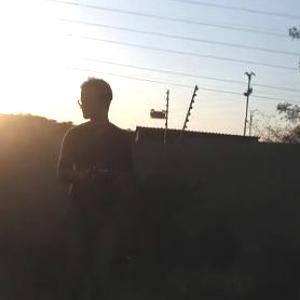follow: (55, 72, 141, 299)
